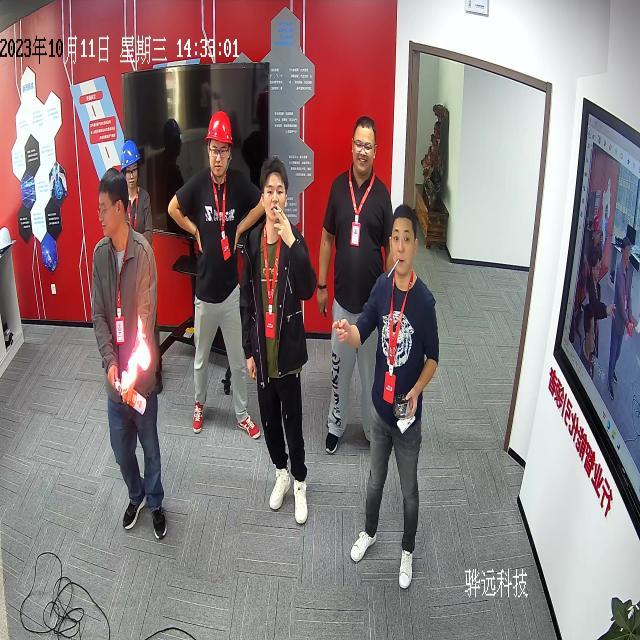Fire: (122, 314, 150, 392)
